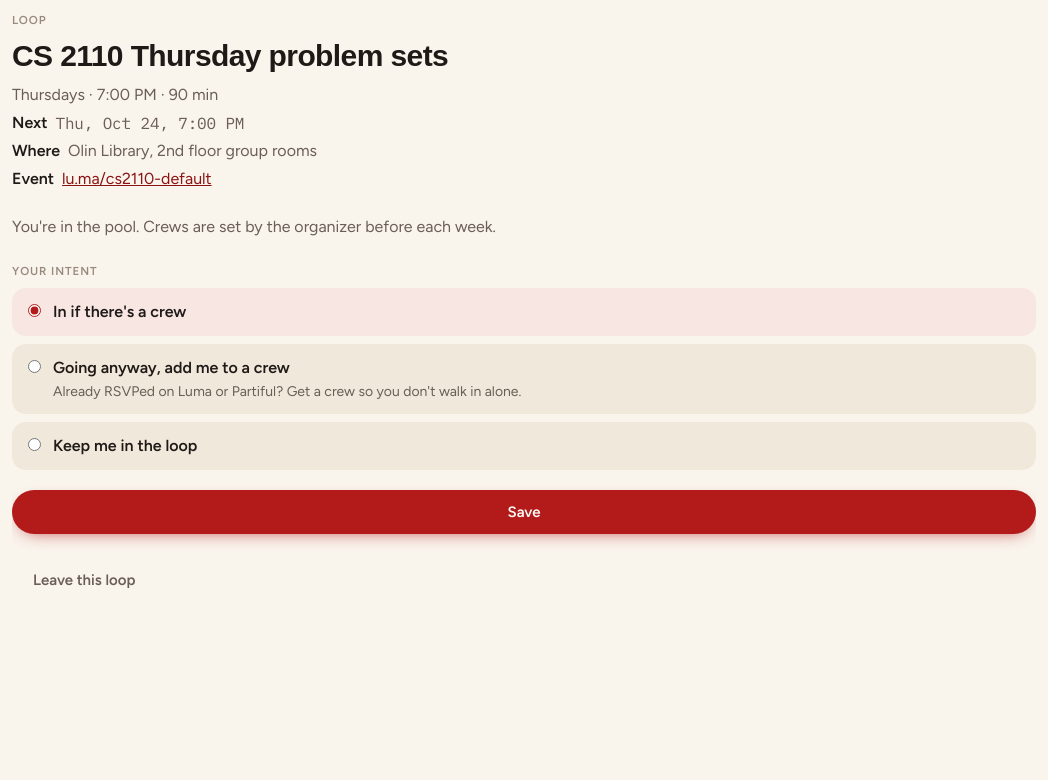
Test: leave copy on the member page › an uncrewed member keeps the waiting-state copy
Click the button "Leave this loop". click: (84, 580)
box: [12,558,156,602]
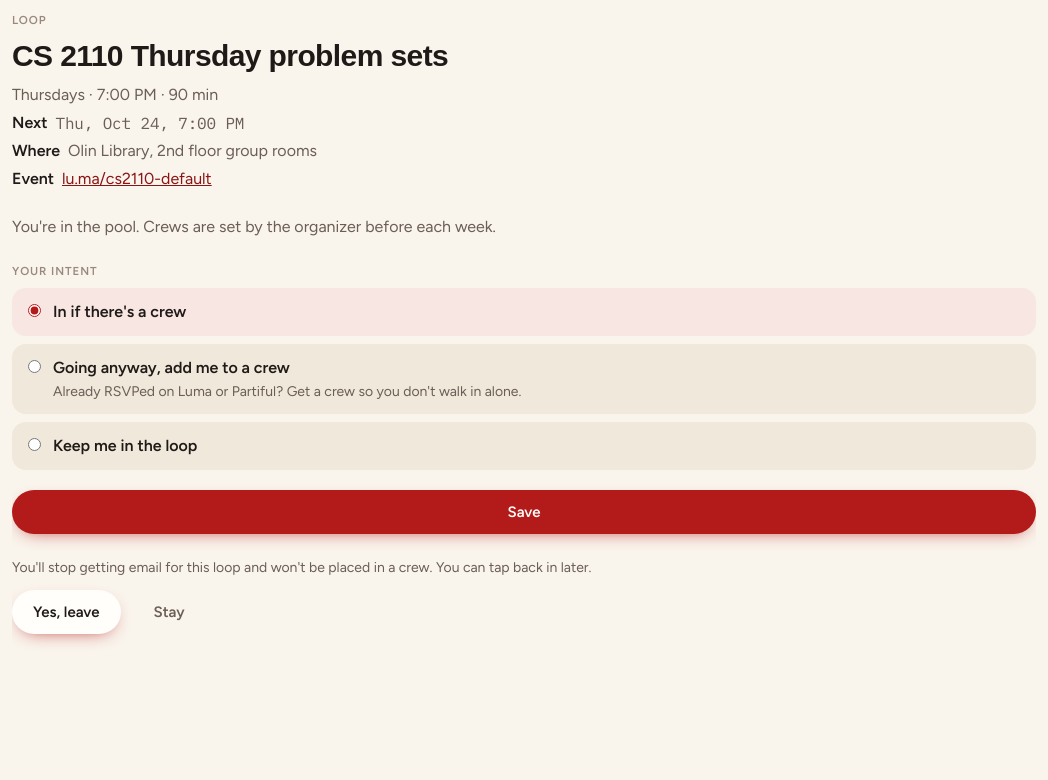
expect the text "stop getting email" shows "You'll stop getting email for this loop and won't be placed in a crew. You can tap back in later.": met, box [12,559,592,576]
